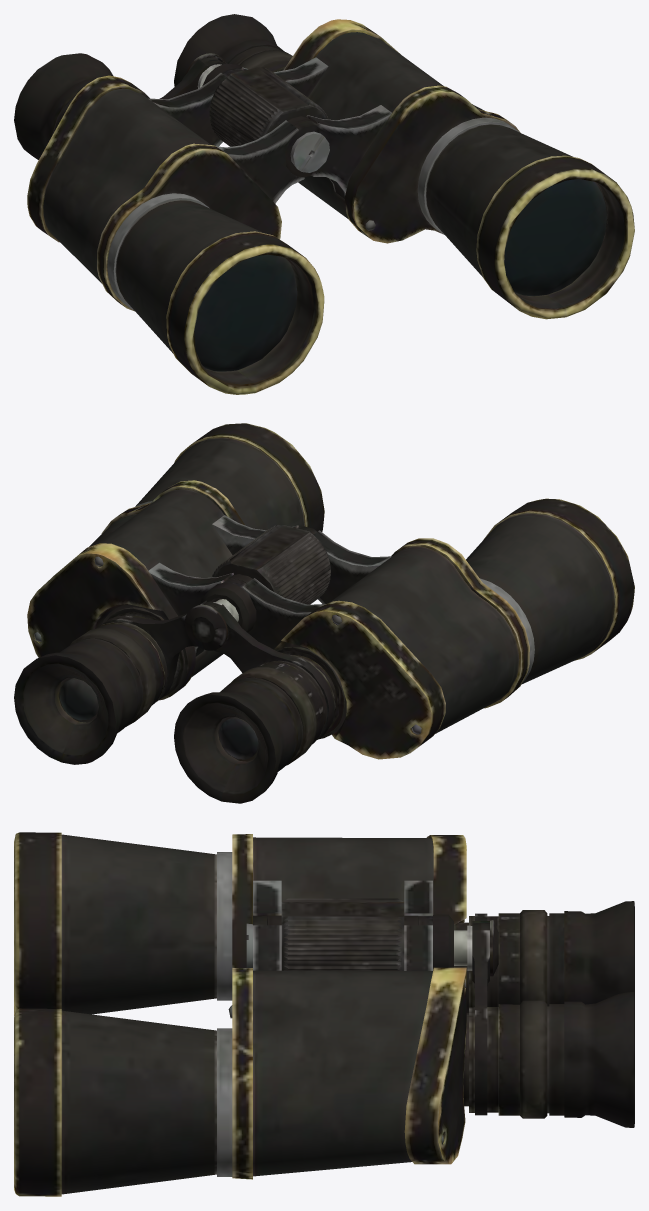
File: vintage_binocular.1d43c12c.glb
3 renders of one model, top to bottom at view 1: azimuth 30°, elevation 25°; view 2: azimuth 150°, elevation 25°; view 3: azimuth 270°, elevation 25°, orthographic. The views are drawn at different scales.
Visible parts, largest first — view 1: vintage_binocular_right_prism, vintage_binocular_left_prism, vintage_binocular_right_lens, vintage_binocular_focus, vintage_binocular_left_lens, vintage_binocular_middle; view 2: vintage_binocular_right_prism, vintage_binocular_left_prism, vintage_binocular_left_lens, vintage_binocular_right_lens, vintage_binocular_focus, vintage_binocular_diopter, vintage_binocular_eye_relief, vintage_binocular_middle; view 3: vintage_binocular_left_prism, vintage_binocular_right_prism, vintage_binocular_left_lens, vintage_binocular_right_lens, vintage_binocular_focus, vintage_binocular_diopter, vintage_binocular_middle, vintage_binocular_eye_relief.
Part boxes in pixels (<box>): vintage_binocular_right_prism: <box>27,73,324,394</box>; vintage_binocular_left_prism: <box>223,19,634,319</box>; vintage_binocular_right_lens: <box>14,53,224,159</box>; vintage_binocular_focus: <box>209,67,328,146</box>; vintage_binocular_left_lens: <box>174,14,292,86</box>; vintage_binocular_middle: <box>202,63,329,172</box>; vintage_binocular_right_prism: <box>228,498,634,759</box>; vintage_binocular_left_prism: <box>27,423,324,700</box>; vintage_binocular_left_lens: <box>14,600,217,764</box>; vintage_binocular_right_lens: <box>174,601,336,803</box>; vintage_binocular_focus: <box>211,525,330,604</box>; vintage_binocular_diopter: <box>228,661,324,765</box>; vintage_binocular_eye_relief: <box>184,599,238,650</box>; vintage_binocular_middle: <box>200,582,256,632</box>; vintage_binocular_left_prism: <box>14,916,466,1196</box>; vintage_binocular_right_prism: <box>14,832,466,1018</box>; vintage_binocular_left_lens: <box>463,923,634,1127</box>; vintage_binocular_right_lens: <box>456,901,634,1012</box>; vintage_binocular_focus: <box>281,898,404,970</box>; vintage_binocular_diopter: <box>498,910,547,1004</box>; vintage_binocular_middle: <box>246,914,453,970</box>; vintage_binocular_eye_relief: <box>454,920,498,976</box>.
Bounding box in the file's own units: 0.7011 × 0.2474 × 0.72.
Materials: 1 (1 with a texture image).
